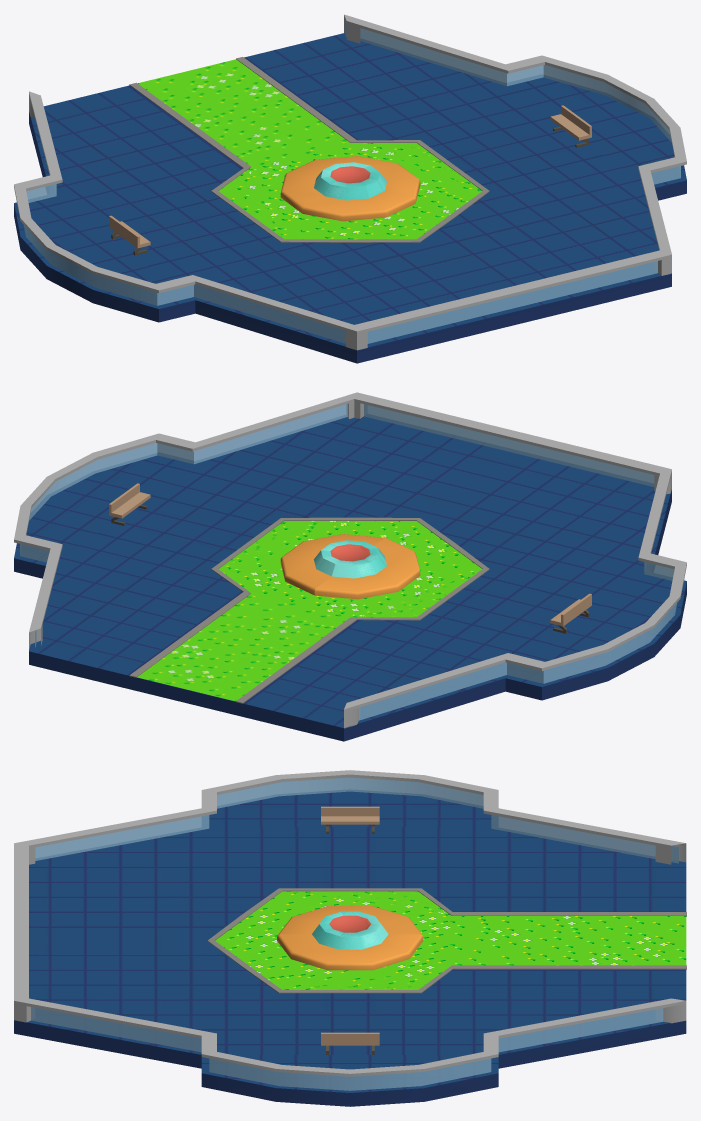
The model's file is santren.fbx.
The picture shows the model from 3 angles, top to bottom: view 1: azimuth 30°, elevation 25°; view 2: azimuth 150°, elevation 25°; view 3: azimuth 270°, elevation 25°; orthographic projection. The views are drawn at different scales.
Visible parts, largest first — view 1: san tren; view 2: san tren; view 3: san tren.
Part boxes in pixels (<box>): san tren: <box>14,14,686,363</box>; san tren: <box>14,392,686,741</box>; san tren: <box>14,770,686,1106</box>.
Bounding box in the file's own units: 2369 × 126 × 2218.
